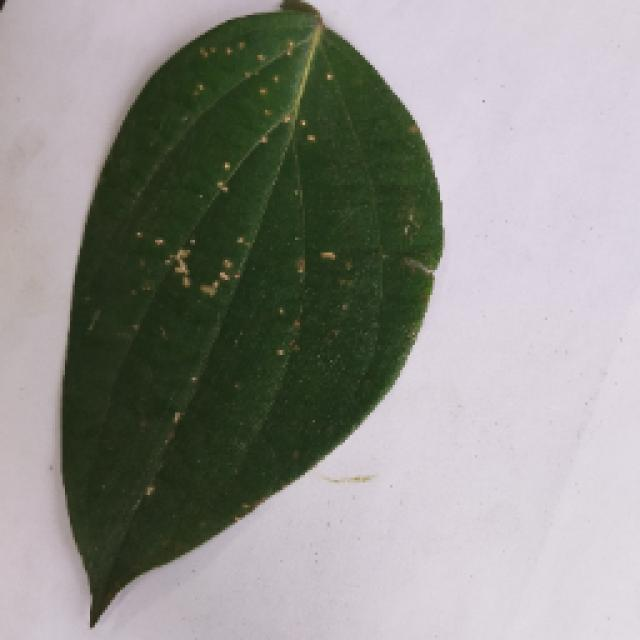pollu-disease: (58, 8, 440, 622)
